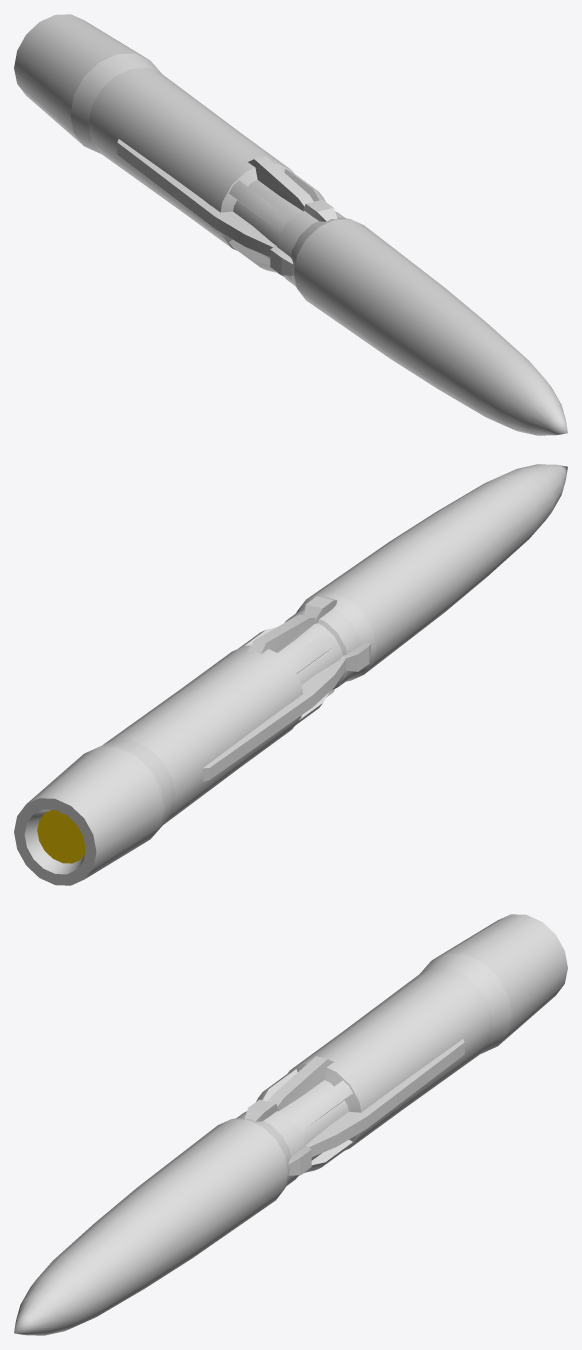
The model's file is VSM-3 Full.fbx.
3 renders of one model, top to bottom at view 1: azimuth 30°, elevation 25°; view 2: azimuth 150°, elevation 25°; view 3: azimuth 330°, elevation 25°, orthographic.
Visible parts, largest first — view 1: VSM-3 Stage 1; view 2: VSM-3 Stage 1; view 3: VSM-3 Stage 1.
Boxes of the visible parts, left/top/right/bottom form: VSM-3 Stage 1: left=14, top=14, right=567, bottom=435; VSM-3 Stage 1: left=14, top=464, right=567, bottom=885; VSM-3 Stage 1: left=14, top=914, right=567, bottom=1335.
Bounding box in the file's own units: 11.83 × 107 × 11.6.
